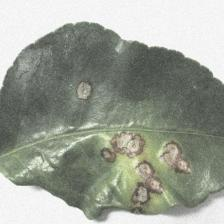canker: (52, 72, 199, 217)
